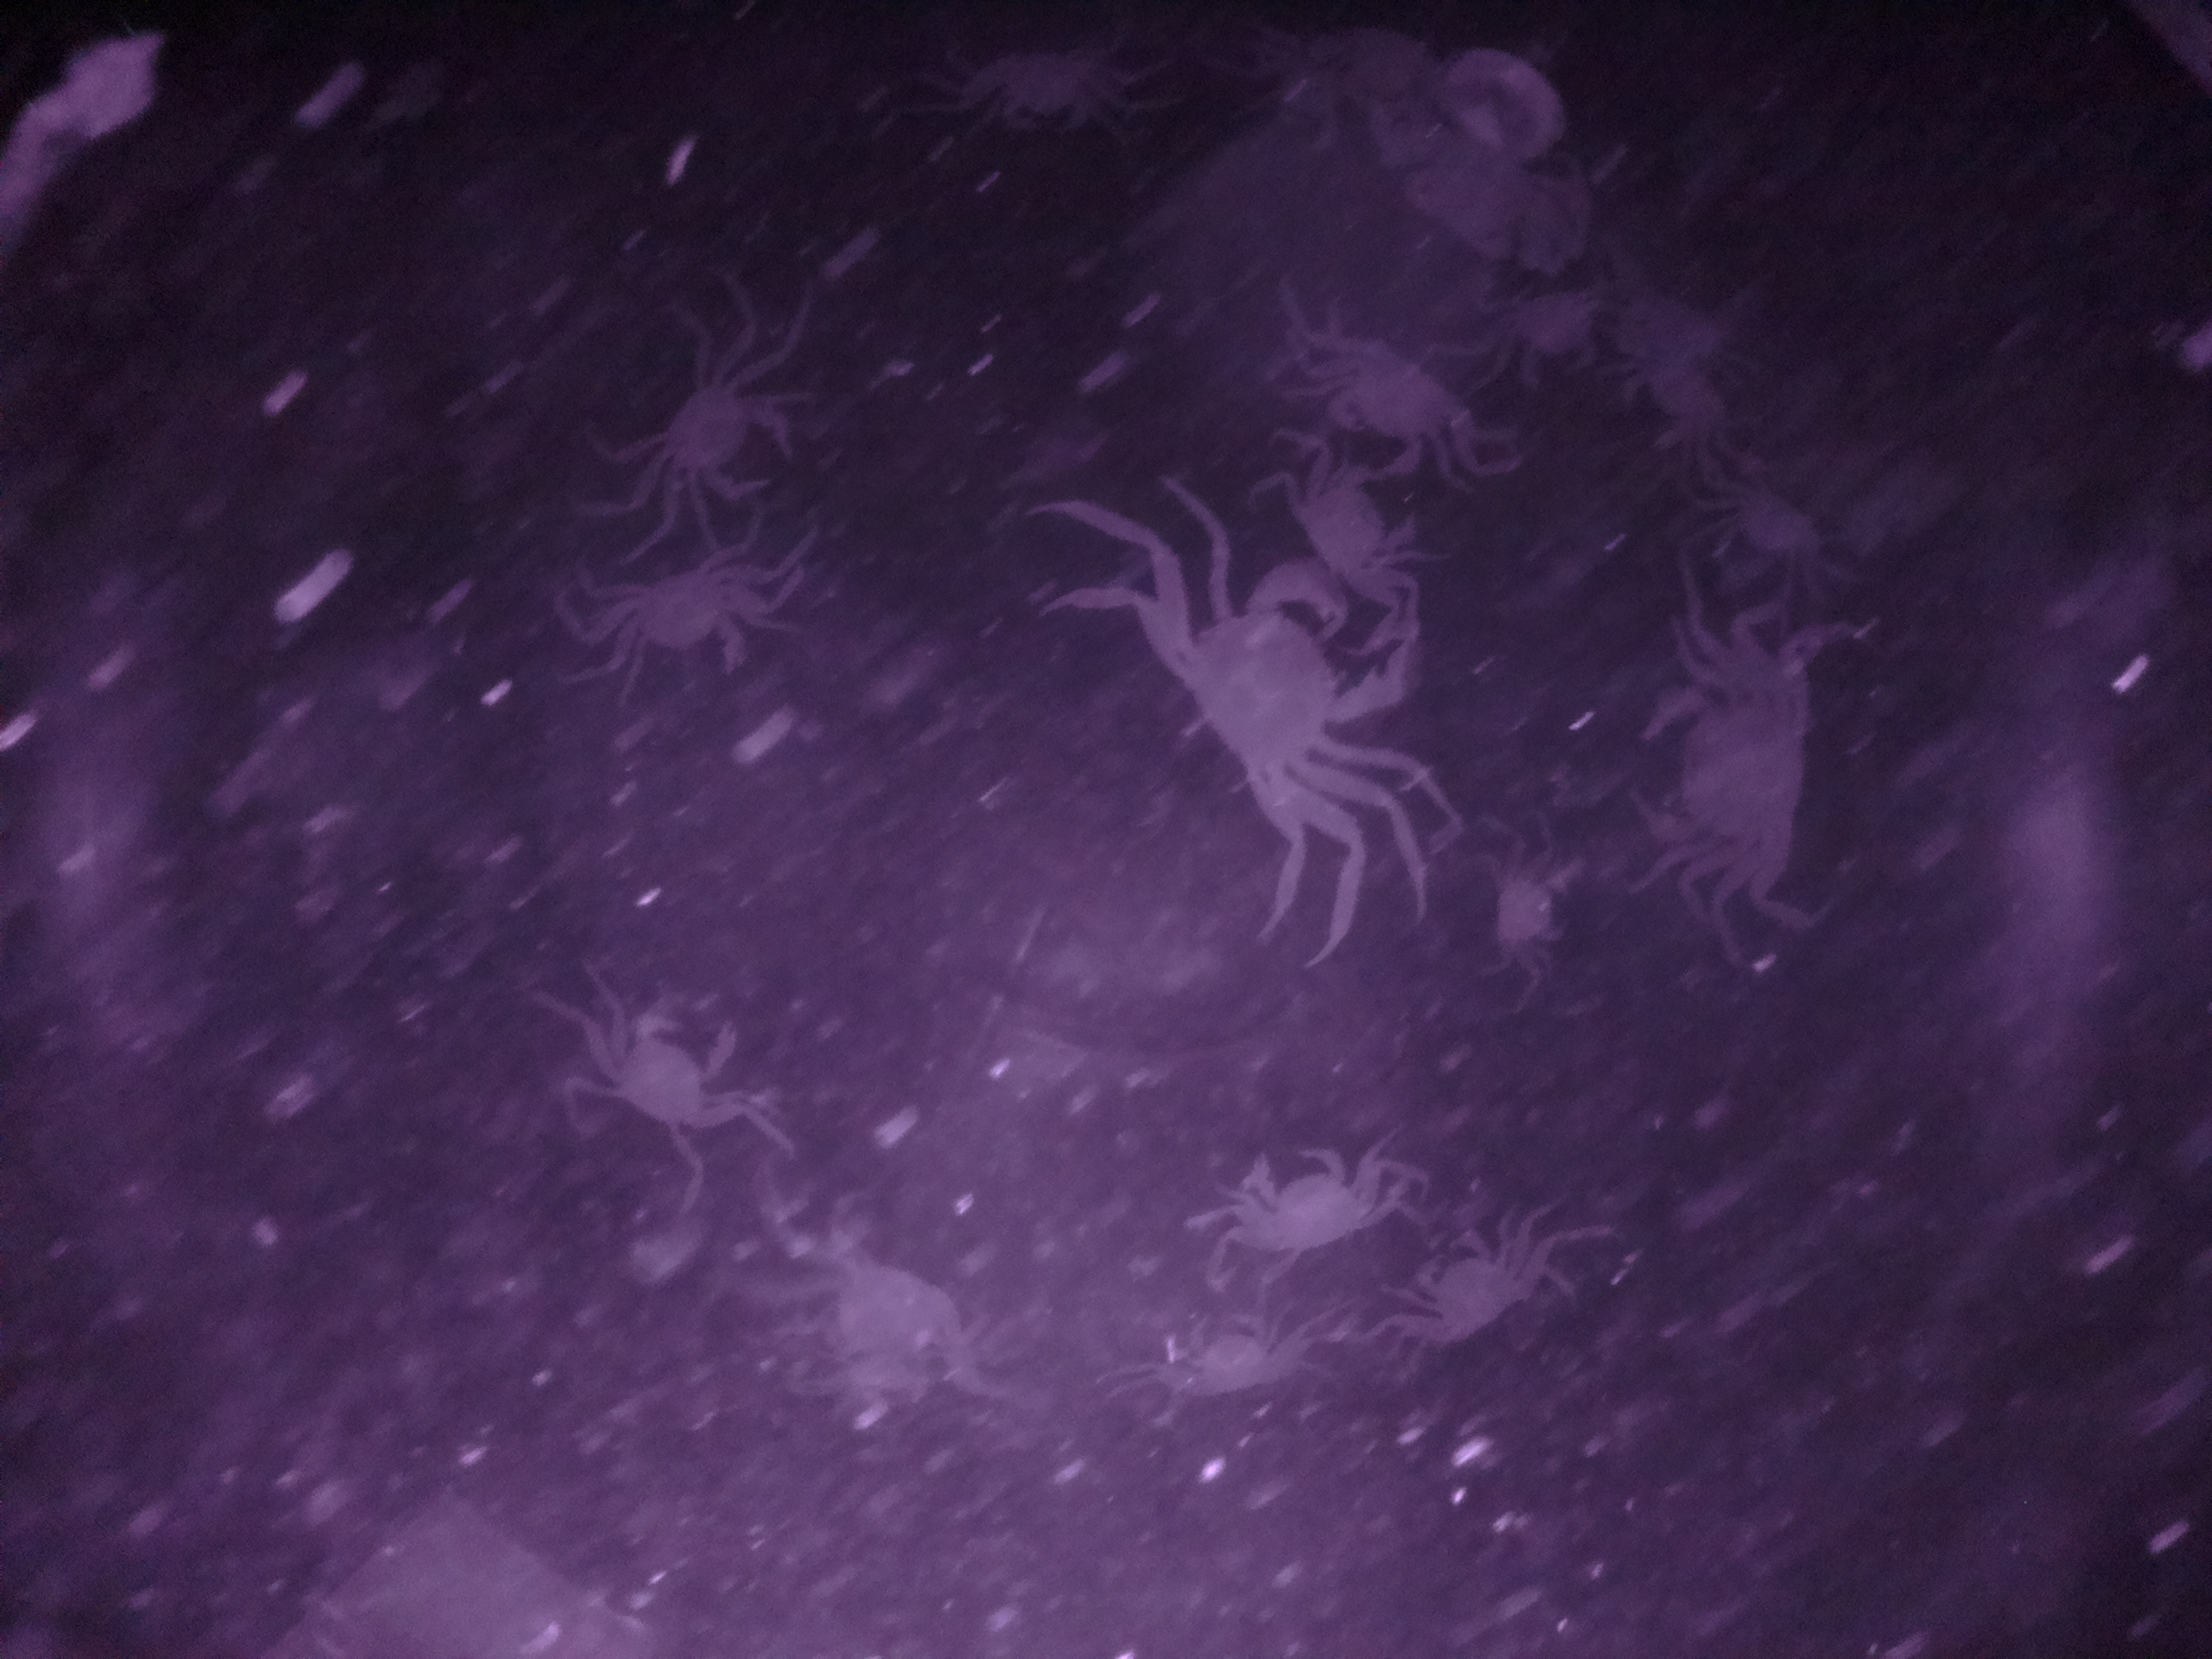Crab: (1153, 561, 1437, 807), (1613, 660, 1841, 892), (573, 995, 773, 1171), (1310, 336, 1521, 498), (613, 357, 817, 519), (587, 552, 758, 714), (1202, 1131, 1397, 1270), (1406, 1208, 1540, 1364), (1165, 1300, 1306, 1413)
